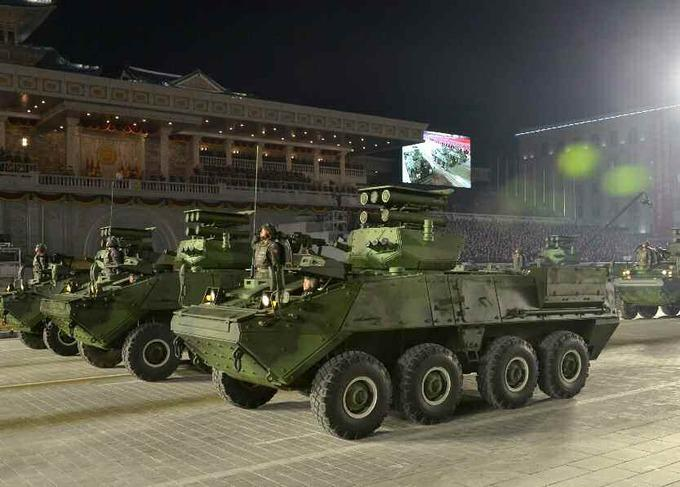MIL_IFV: (172, 184, 618, 439), (39, 208, 263, 386)
